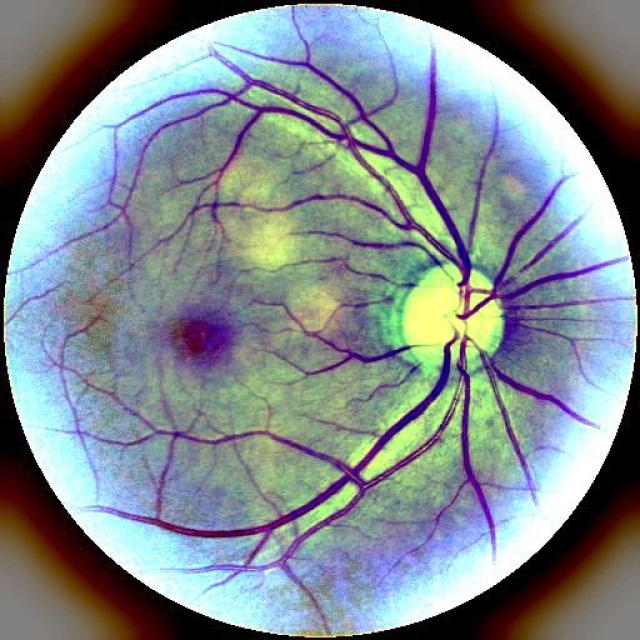Macula: (171, 316, 231, 362)
Nerves: (92, 47, 633, 549)
Optic Disk: (402, 268, 501, 349)
